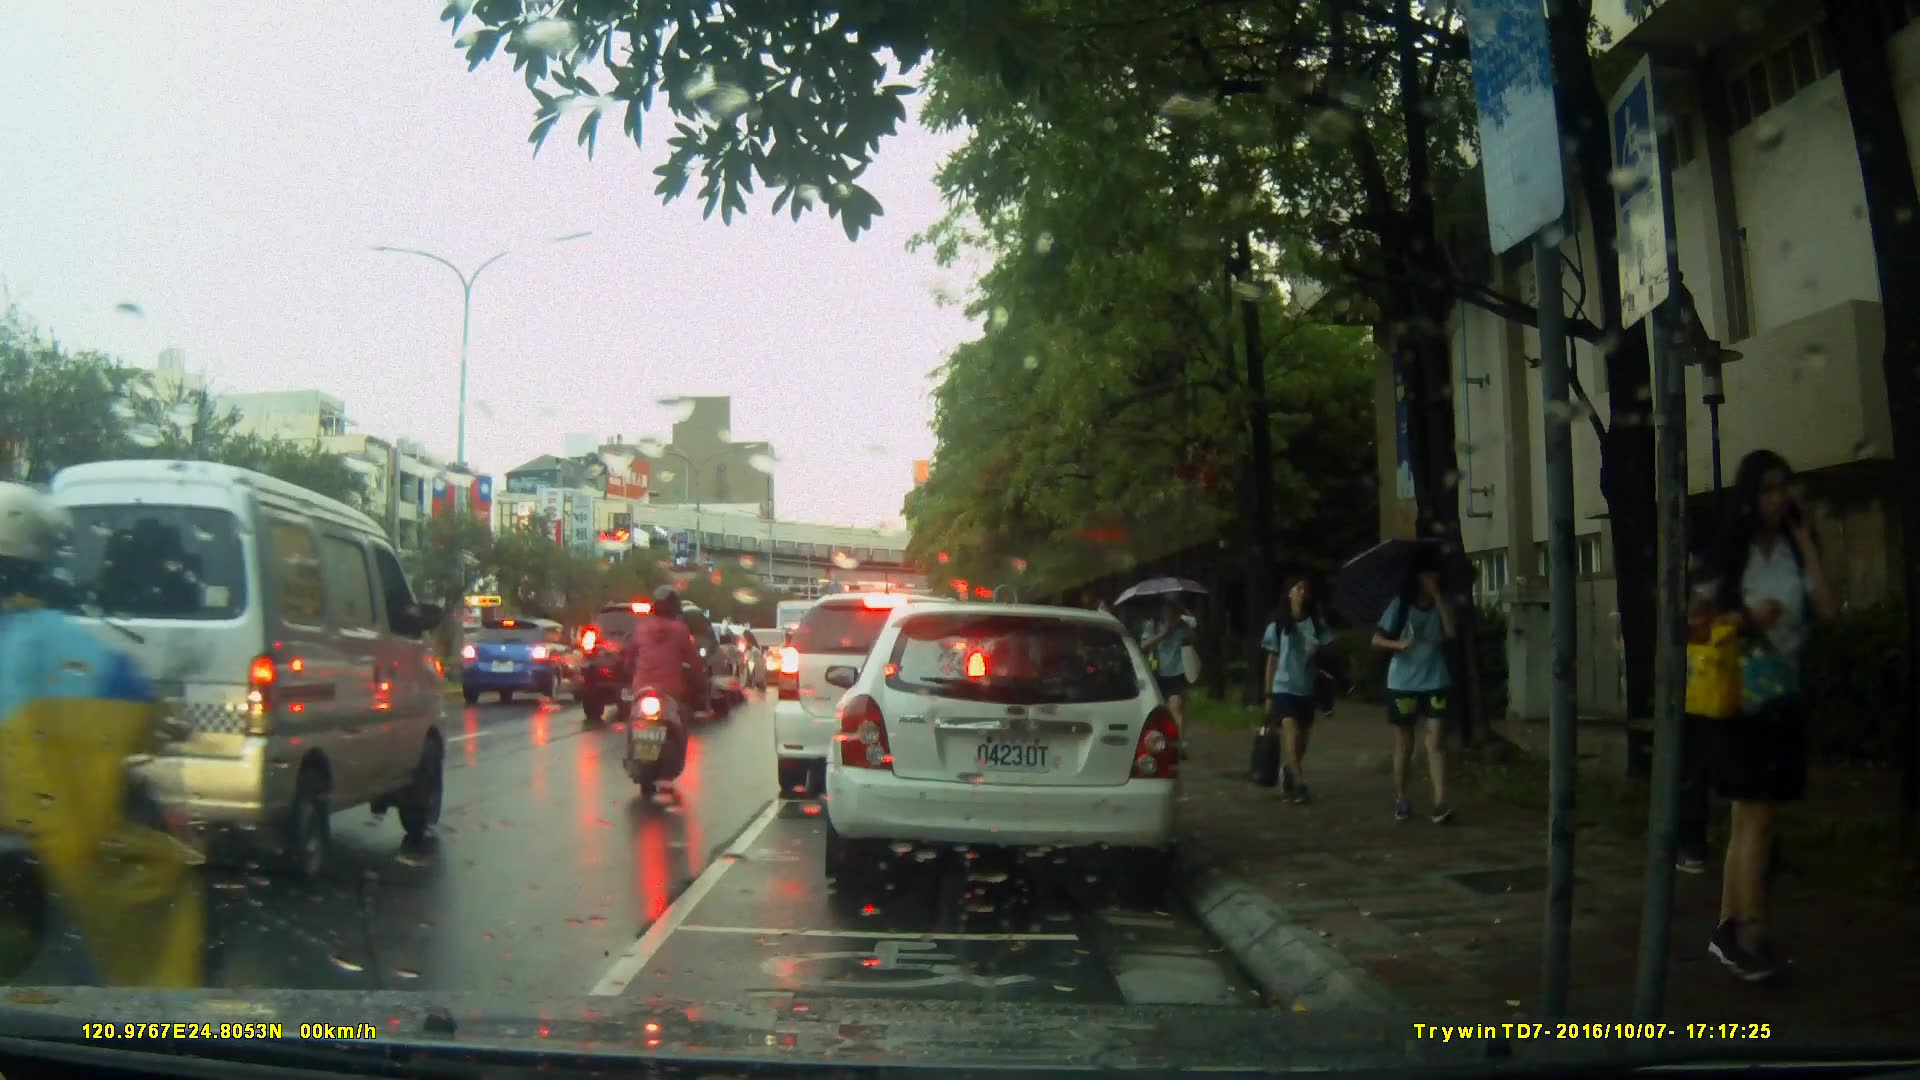pedestrian: (1679, 443, 1835, 983), (1676, 504, 1788, 897), (1358, 545, 1471, 830), (1246, 567, 1332, 804), (1146, 586, 1208, 752)
rider: (1, 503, 248, 1073), (624, 584, 704, 790)
vehicle: (20, 460, 452, 893), (815, 593, 1204, 909), (771, 590, 994, 802), (574, 602, 737, 726), (463, 617, 592, 709)
